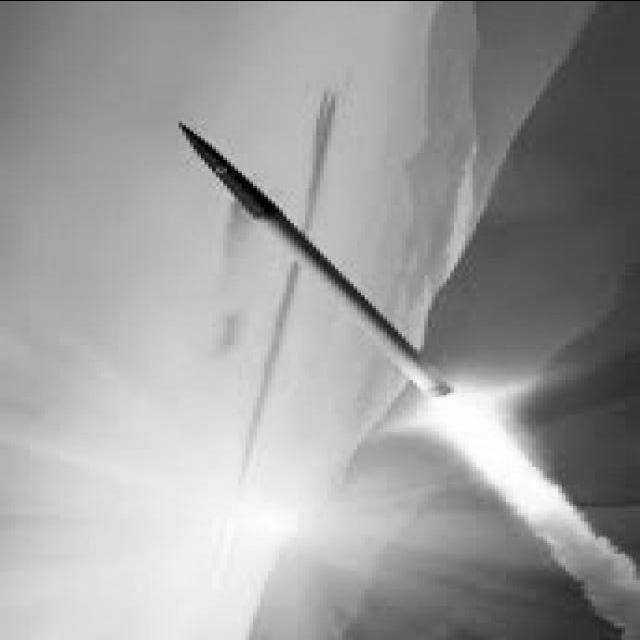missile: (170, 112, 445, 400)
